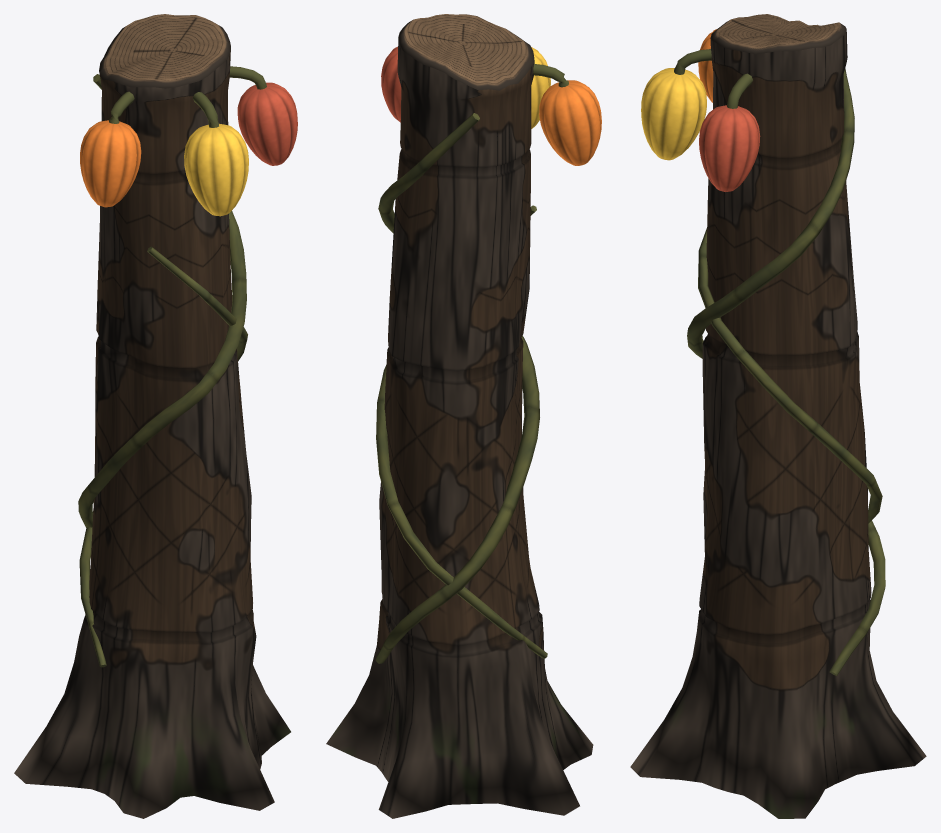
File: totem_warp_cuyabeno_hp_LOD0.glb
3 views of the same model, side by side, from view 1: azimuth 30°, elevation 25°; view 2: azimuth 150°, elevation 25°; view 3: azimuth 270°, elevation 25° (orthographic).
Parts seen in each view (by area): view 1: Totem_LOD0; view 2: Totem_LOD0; view 3: Totem_LOD0.
Part boxes in pixels (left/top/right/bottom): Totem_LOD0: left=14, top=14, right=297, bottom=818; Totem_LOD0: left=326, top=14, right=601, bottom=818; Totem_LOD0: left=630, top=14, right=926, bottom=818.
Size of the model in its own units: 0.95 by 2.61 by 0.95.
Materials: 1 (1 with a texture image).
